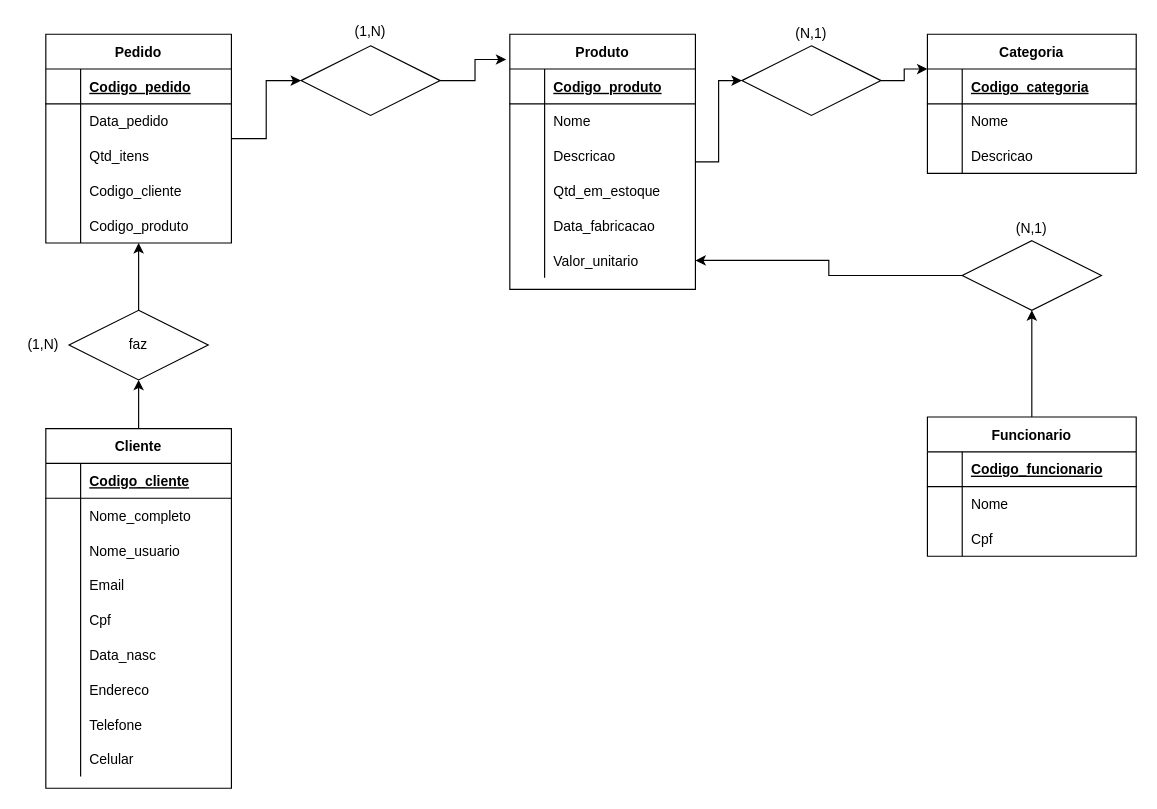
This 1157x809 diagram has some shape labels left out. The centre of each missing label's shape, as x and y in pixels:
"cadastra" belongs at [1031,275].
"contem" belongs at [370,80].
"pertence" belongs at [811,80].
